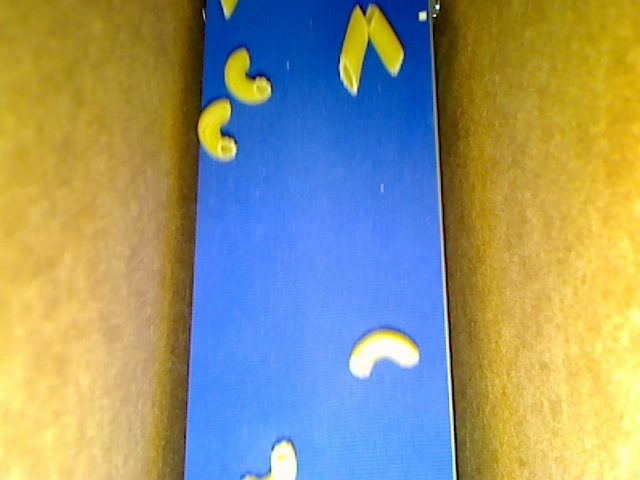elbow: (349, 329, 420, 378), (223, 48, 270, 105), (197, 99, 236, 161), (241, 439, 297, 479)
penne: (364, 2, 403, 77), (338, 4, 368, 96), (219, 1, 238, 19)
